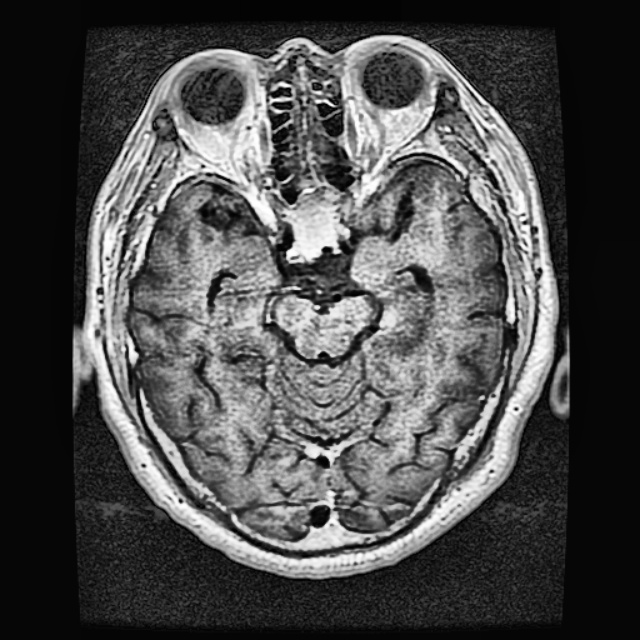Pituitary: (290, 192, 339, 254)
